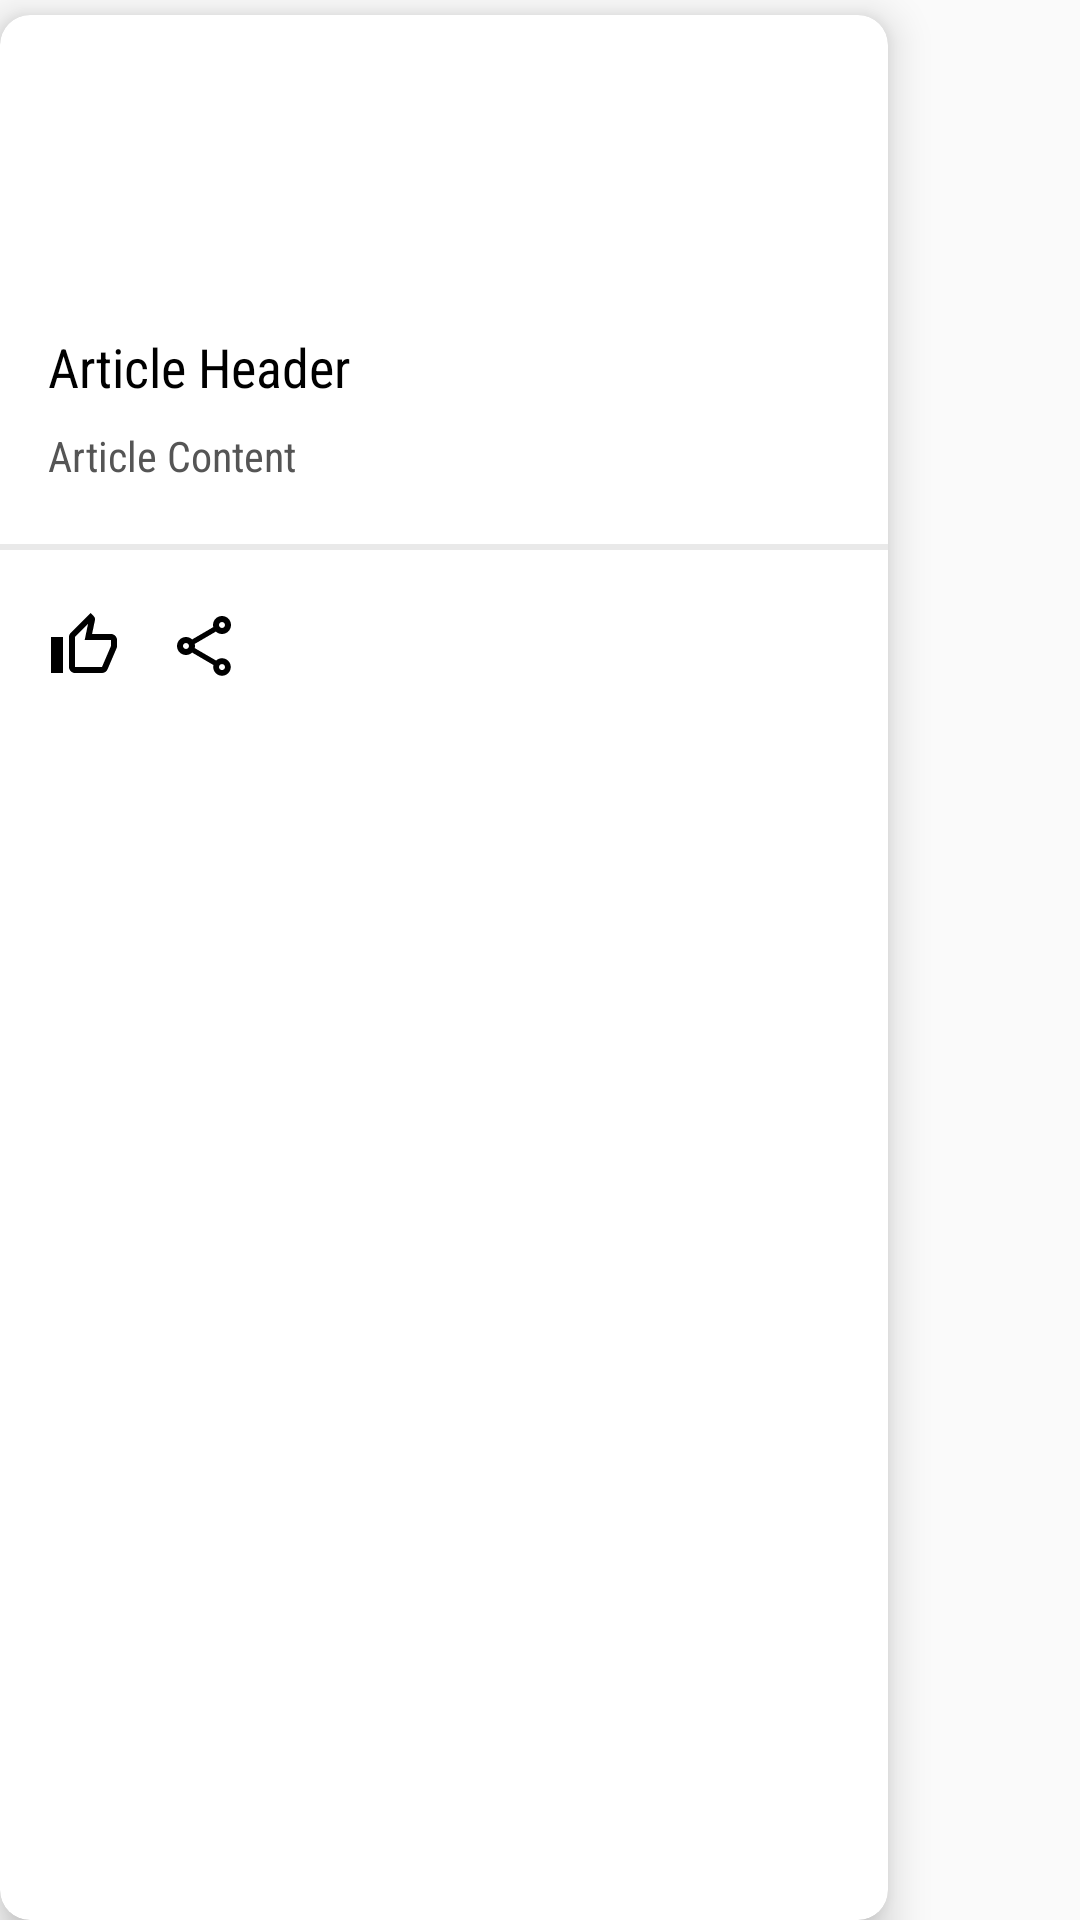

Where icons sit on this 1080*1920 app screen, as (x1, y1, x2, y2):
share: (177, 616, 231, 676)
thumb up: (51, 613, 117, 673)
